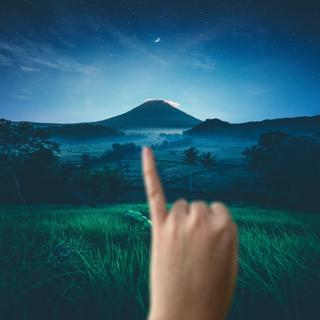FINE: (133, 145, 243, 313)
